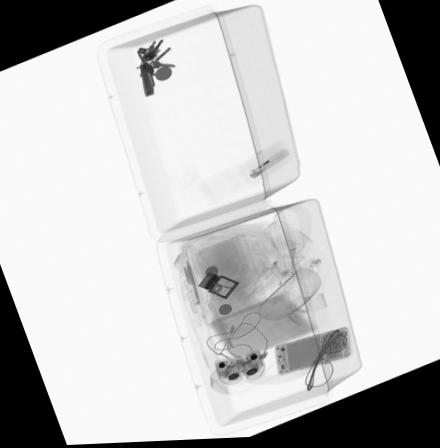Lighter: (246, 149, 291, 180)
